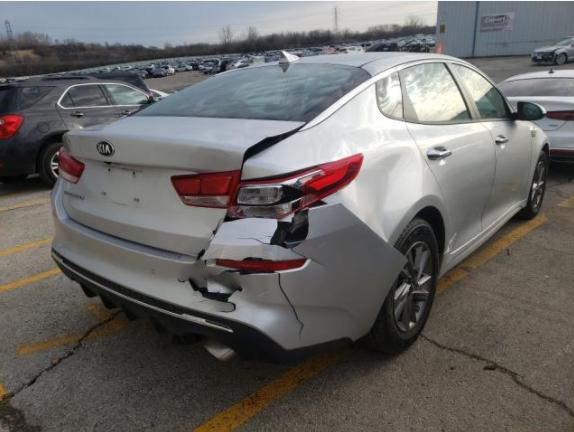Back-bumper: (49, 175, 409, 360)
Back-door: (396, 59, 496, 252)
Back-wheel: (357, 216, 439, 356)
Back-window: (399, 63, 472, 121), (376, 72, 403, 121)
Back-windshield: (129, 63, 372, 122)
Fender: (521, 120, 549, 200)
Front-door: (446, 59, 532, 230)
Front-wheel: (511, 151, 548, 223)
Front-window: (450, 62, 513, 118)
Mirror: (509, 101, 547, 121)
Quarter-panel: (240, 114, 450, 253)
Rocker-panel: (441, 197, 527, 276)
Roof: (225, 50, 468, 76)
Tail-light: (226, 153, 364, 219), (171, 170, 241, 208), (58, 145, 85, 183)
Trunk: (59, 116, 306, 257)
